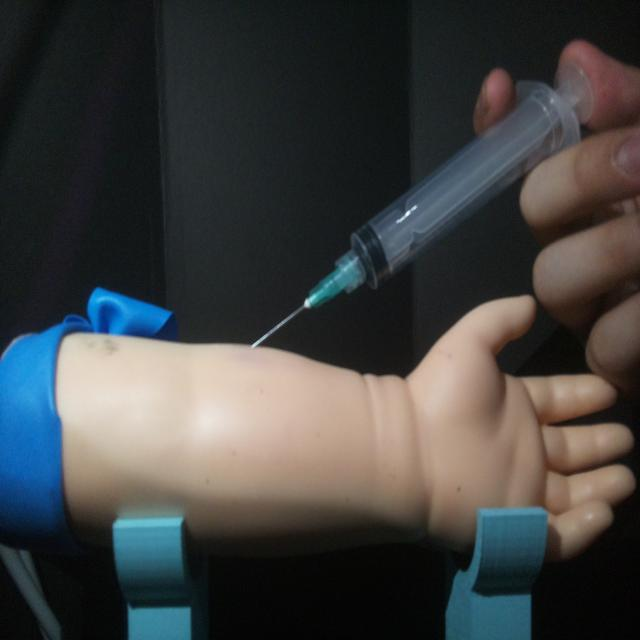30deg: (245, 58, 596, 353)
